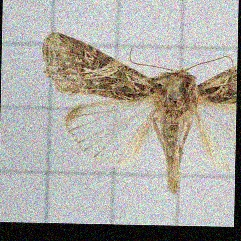Spodoptera litura: (38, 33, 236, 195)
